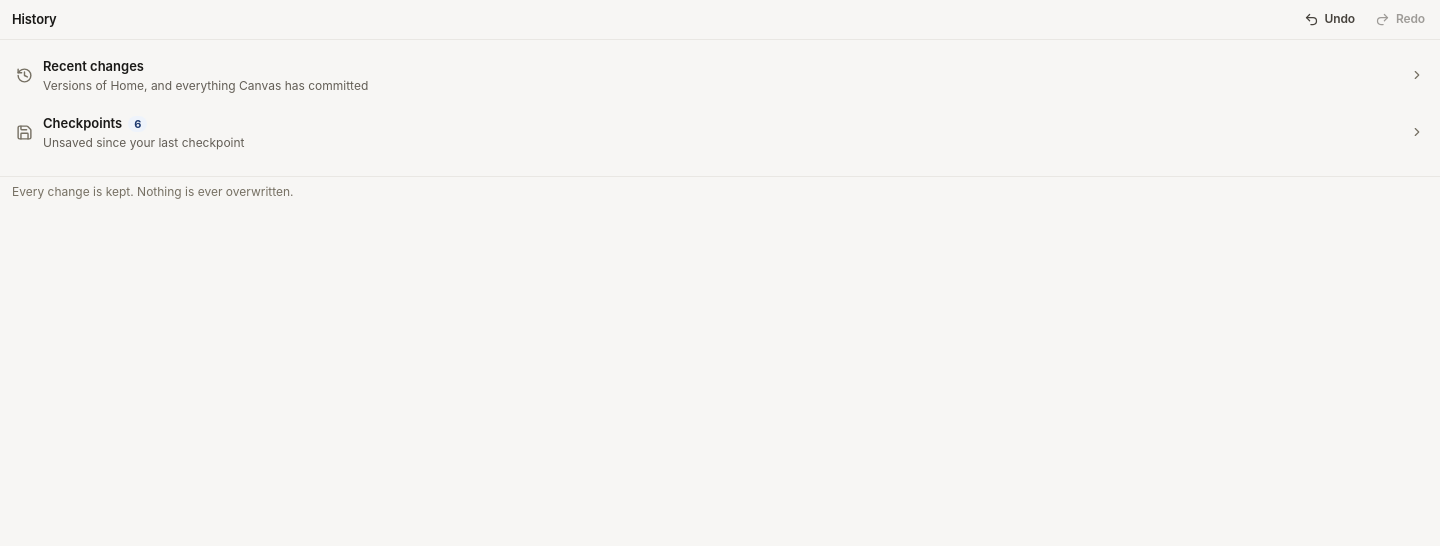
Test: History in the sidebar › restores an earlier version from the sidebar and reports what happened
The image size is (1440, 546).
Click the button "Recent changes" at (94, 66), box [8, 48, 1432, 103]
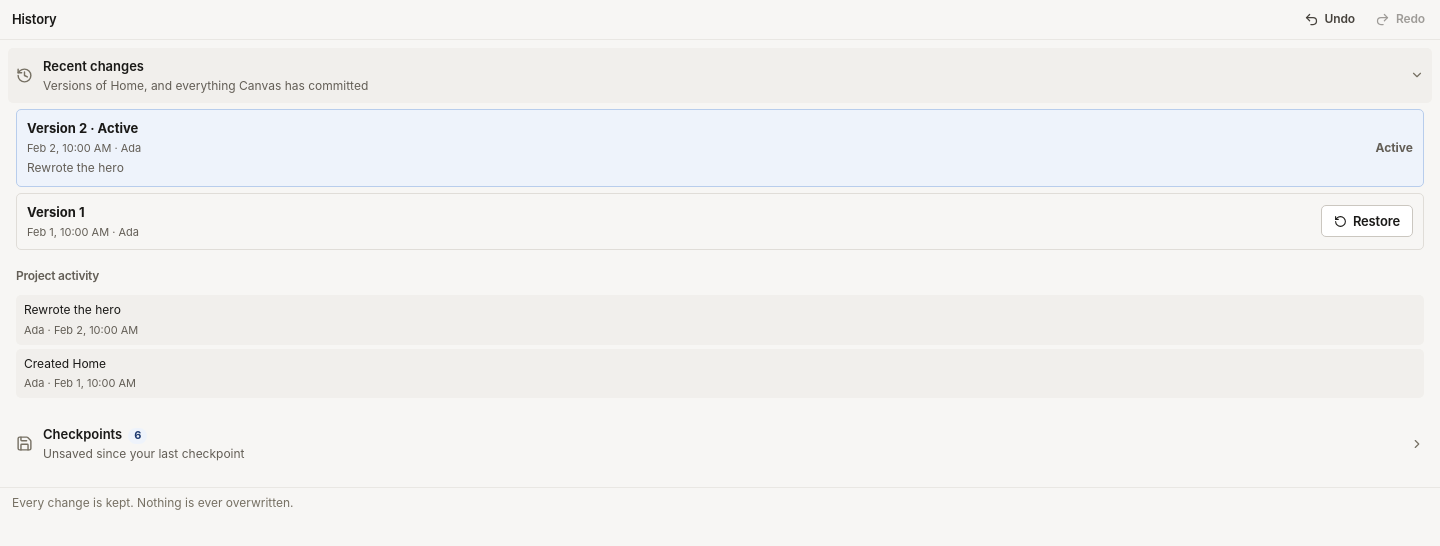
Click the button "Restore" at (1367, 221), box [1321, 205, 1413, 237]
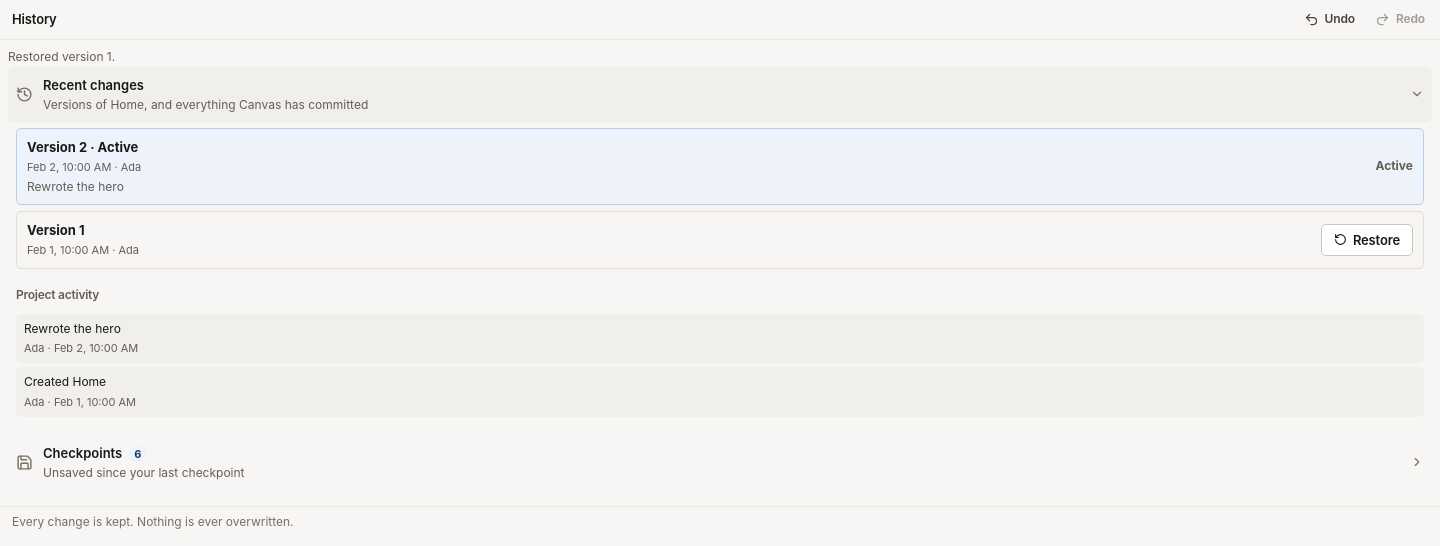
Expected: the message reads "Restored version 1.", [8, 49, 115, 64]
